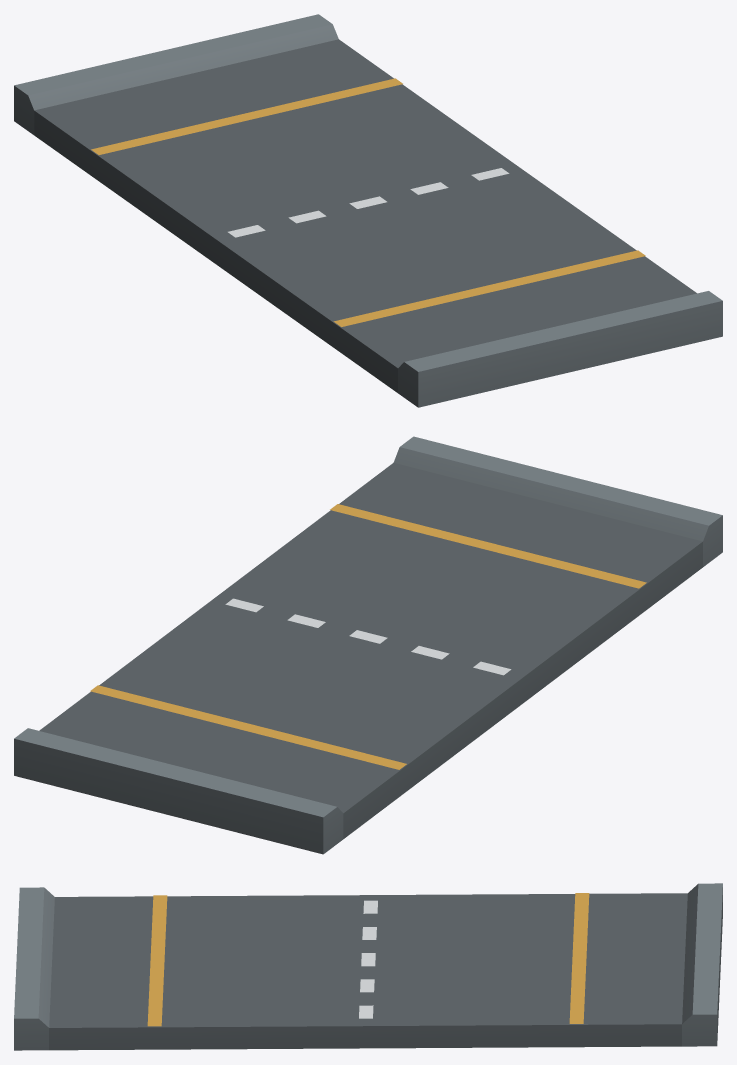
Rendered from road2x_lev3.glb.
The picture shows the model from 3 angles, top to bottom: view 1: azimuth 30°, elevation 25°; view 2: azimuth 150°, elevation 25°; view 3: azimuth 270°, elevation 25°; orthographic projection. The views are drawn at different scales.
Parts seen in each view (by area): view 1: road_straight.021; view 2: road_straight.021; view 3: road_straight.021.
Part boxes in pixels (left/top/right/bottom): road_straight.021: left=14, top=14, right=722, bottom=407; road_straight.021: left=14, top=436, right=722, bottom=854; road_straight.021: left=14, top=883, right=722, bottom=1050.
Bounding box in the file's own units: 8.47 × 0.9312 × 18.77.
1 material, 1 textured.
